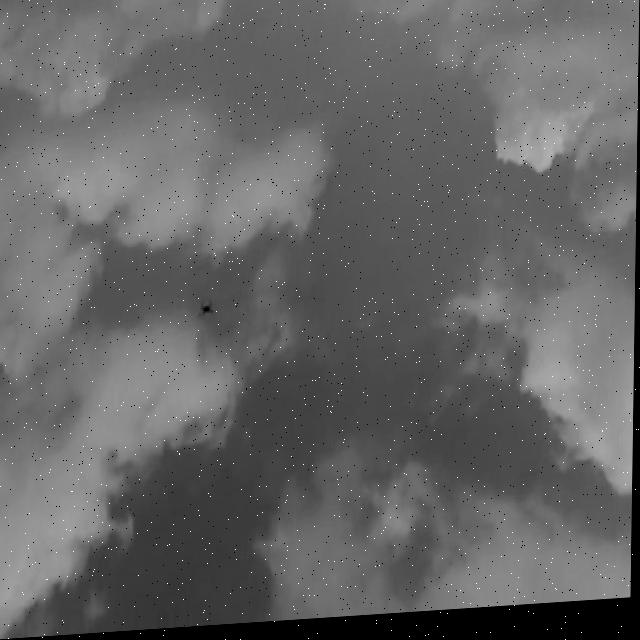drone: (197, 301, 216, 325)
